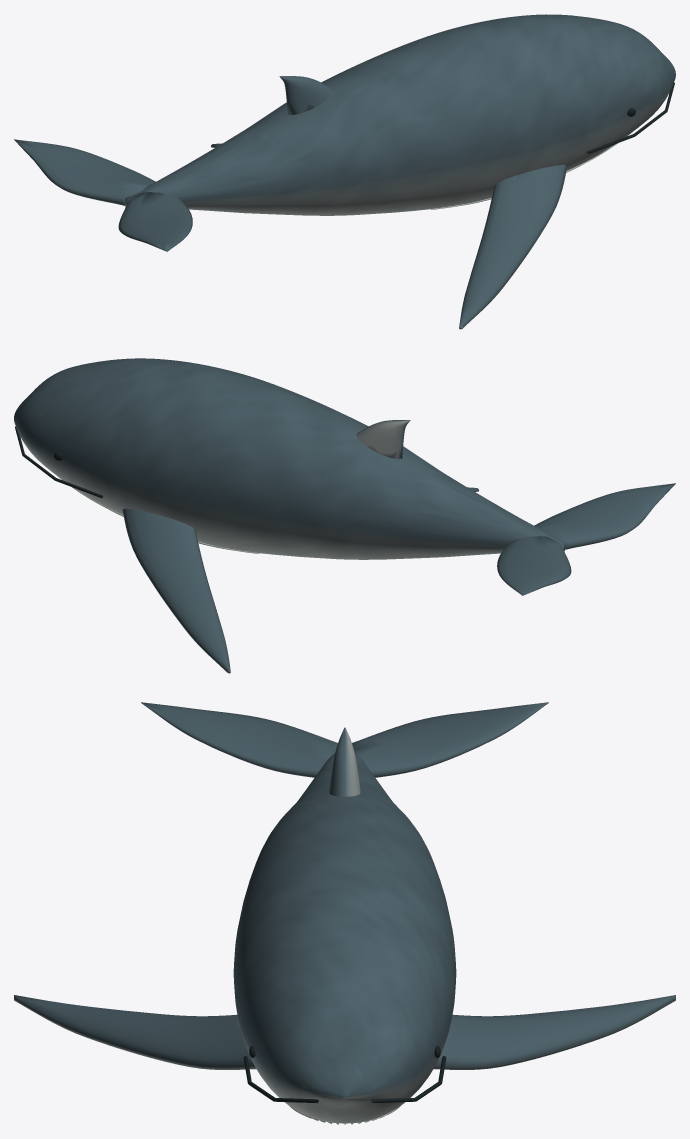
Rendered from whale.glb.
3 views of the same model, one above another, from view 1: azimuth 30°, elevation 25°; view 2: azimuth 150°, elevation 25°; view 3: azimuth 270°, elevation 25° (orthographic). The views are drawn at different scales.
Parts seen in each view (by area): view 1: whale; view 2: whale; view 3: whale.
Boxes of the visible parts, left/top/right/bottom form: whale: left=14, top=14, right=675, bottom=329; whale: left=14, top=358, right=675, bottom=673; whale: left=14, top=702, right=675, bottom=1124.
Bounding box in the file's own units: 6.51 × 1.88 × 4.8.
